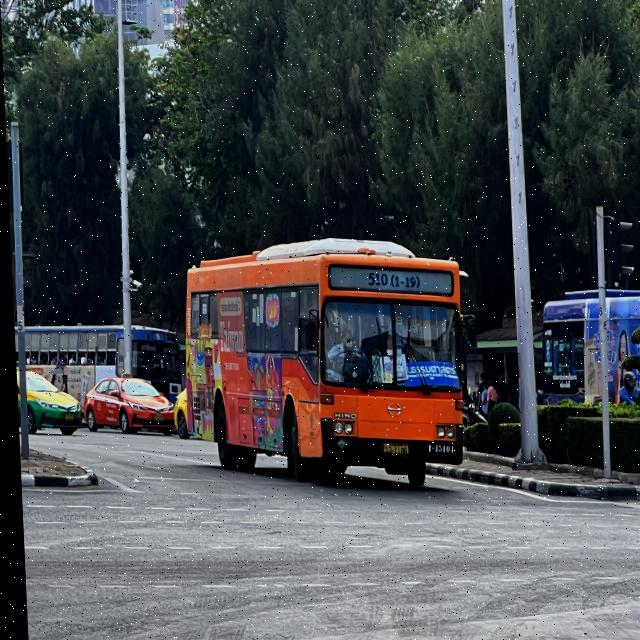BMTA-bus: (178, 239, 468, 489)
Bus-Line-Number: (359, 267, 421, 293)
Destination-Sign-Normal: (401, 359, 459, 389)
